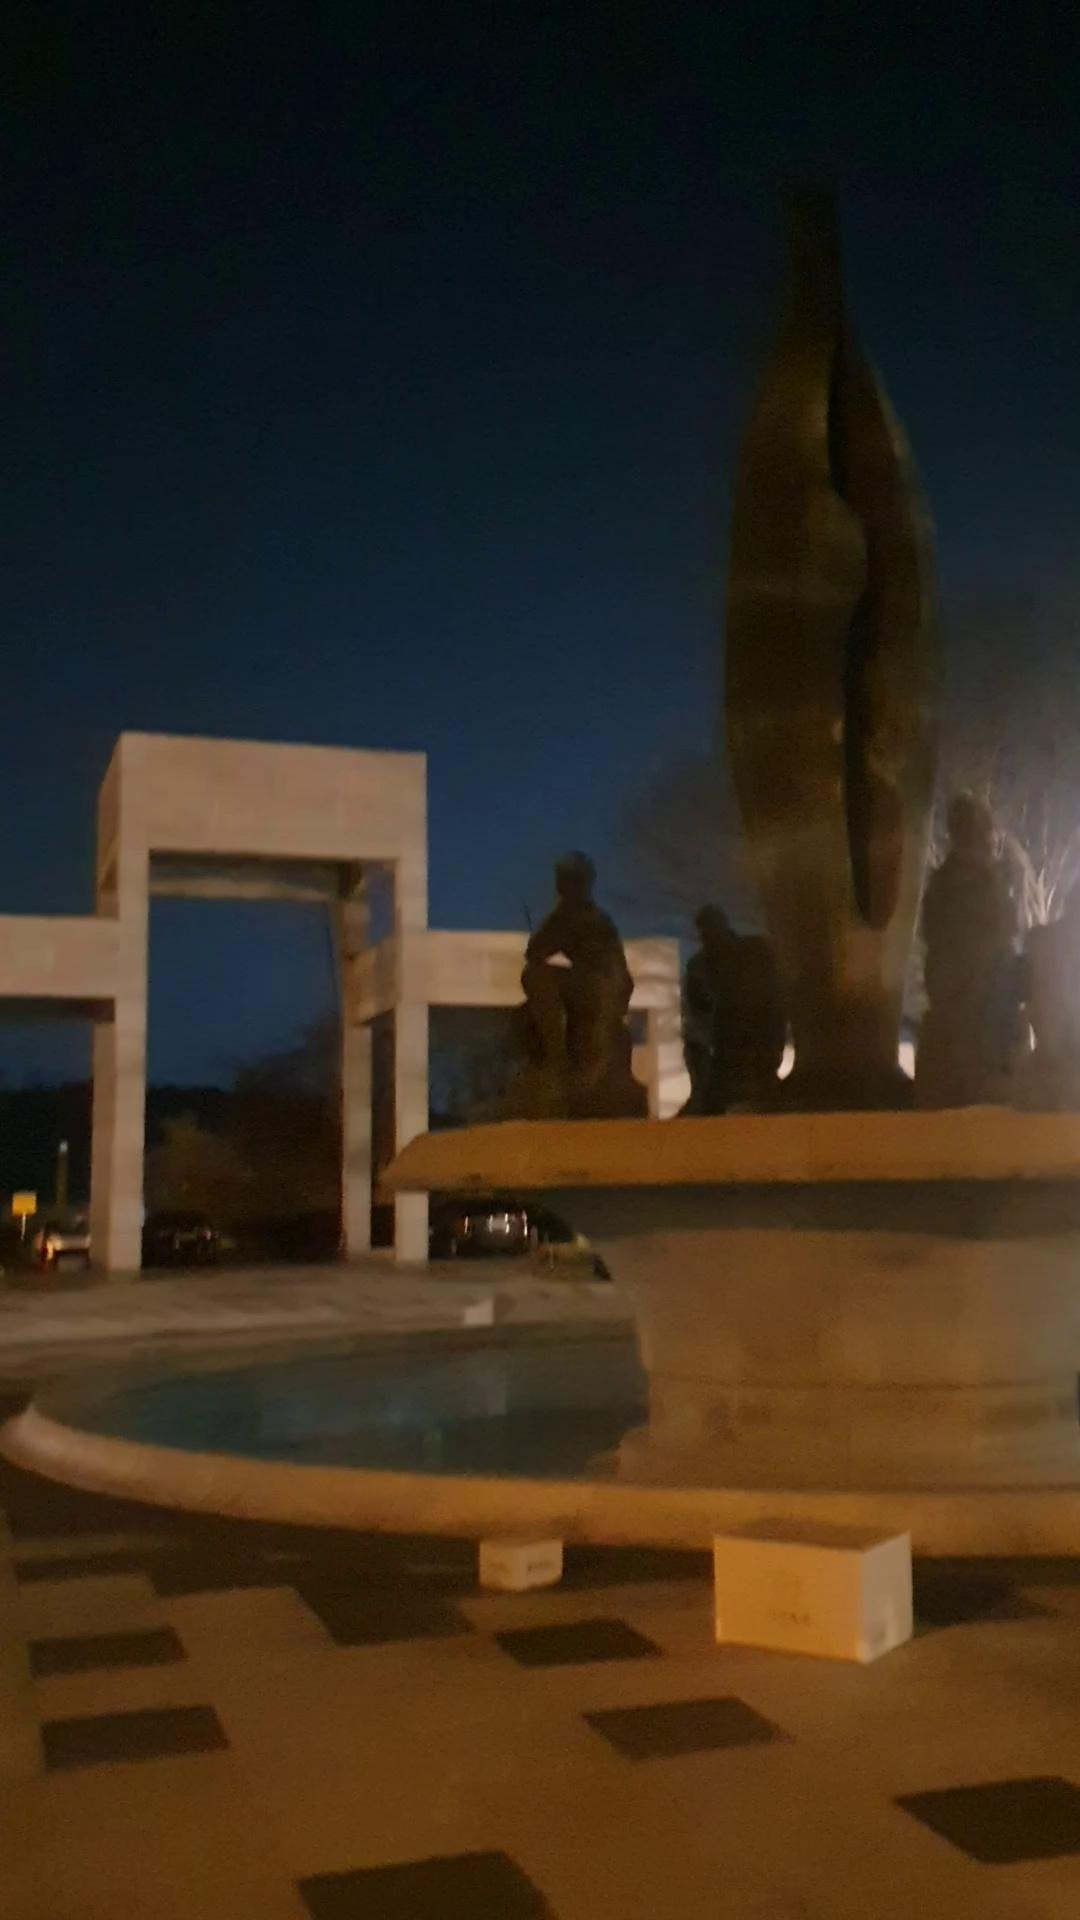Box: (708, 1501, 919, 1662), (465, 1515, 553, 1586)
